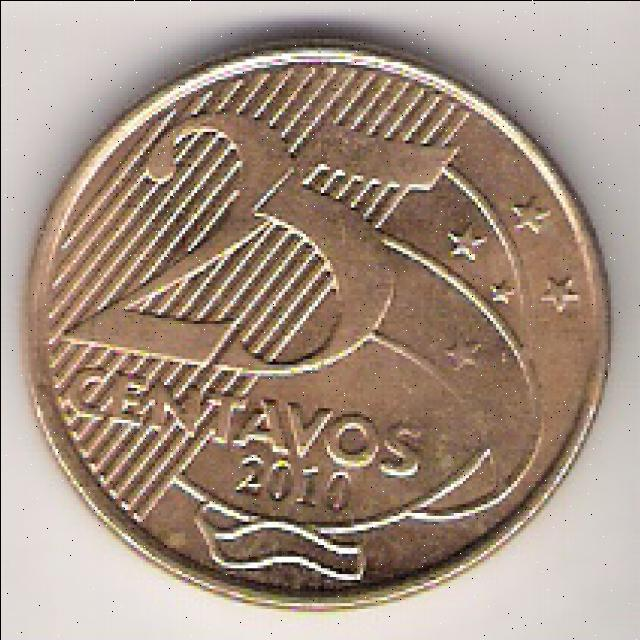25 cent: (21, 39, 612, 610)
